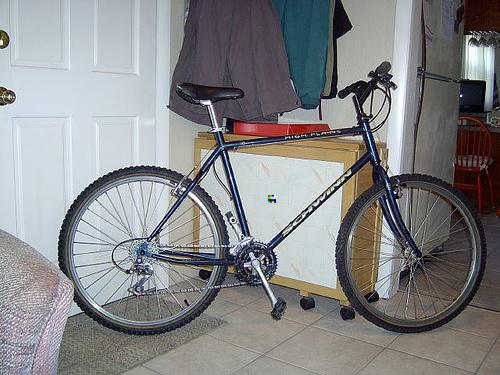car: (58, 62, 487, 337)
tvmonitor: (461, 79, 487, 114)
